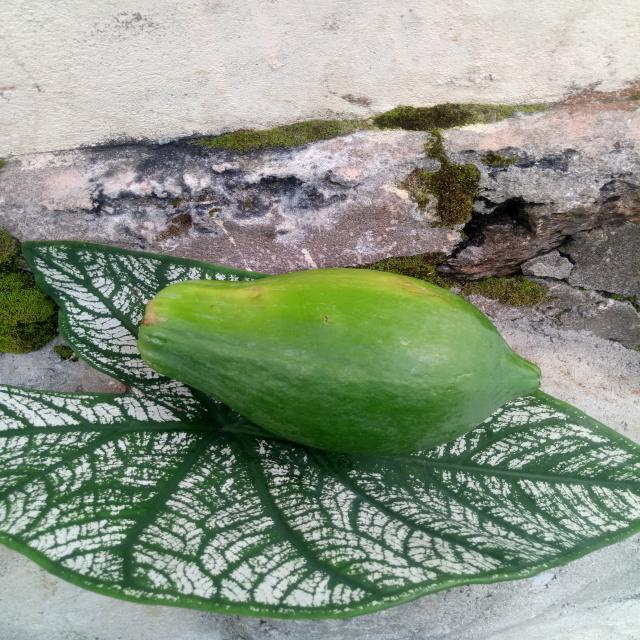Pepaya unrippen: (122, 268, 550, 468)
